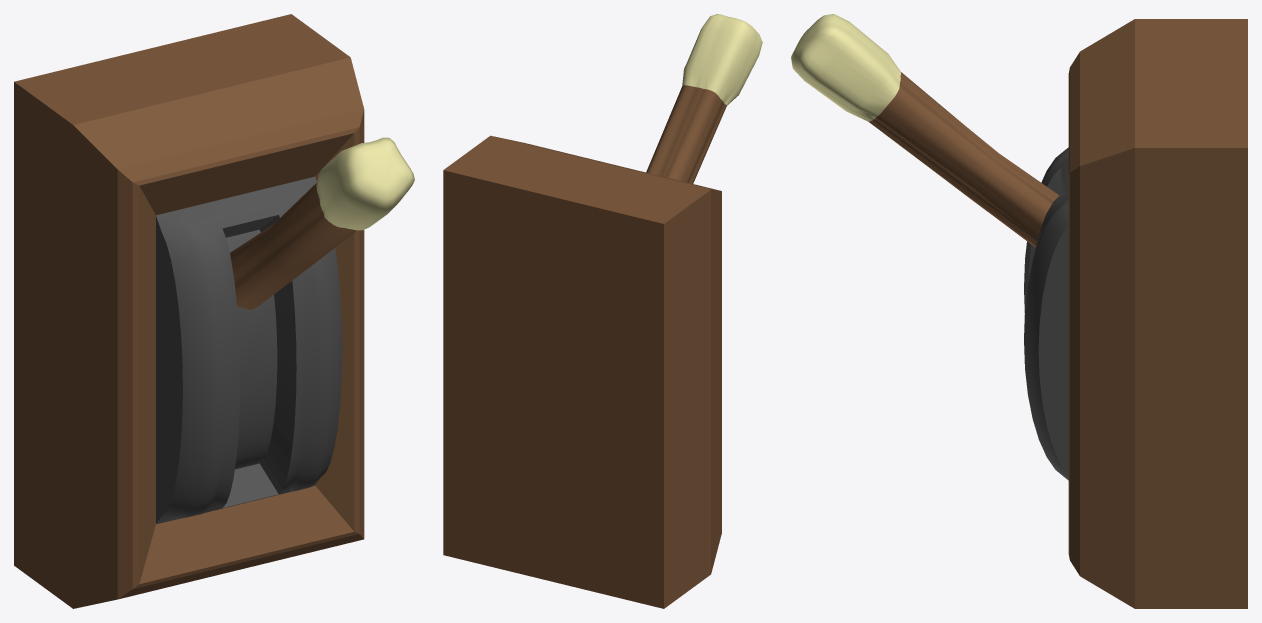
Rendered from Lever_P3.fbx.
3 views of the same model, side by side, from view 1: azimuth 30°, elevation 25°; view 2: azimuth 150°, elevation 25°; view 3: azimuth 270°, elevation 25° (orthographic). The views are drawn at different scales.
Parts seen in each view (by area): view 1: Lever Holder, Lever; view 2: Lever Holder, Lever; view 3: Lever Holder, Lever.
Boxes of the visible parts, box(x1,y1,x2,y2) form: Lever Holder: box(14, 14, 364, 608); Lever: box(230, 137, 414, 309); Lever Holder: box(443, 135, 721, 608); Lever: box(646, 14, 762, 183); Lever Holder: box(1024, 19, 1247, 608); Lever: box(791, 14, 1059, 247).
Size of the model in its own units: 600 by 1134 by 898.
